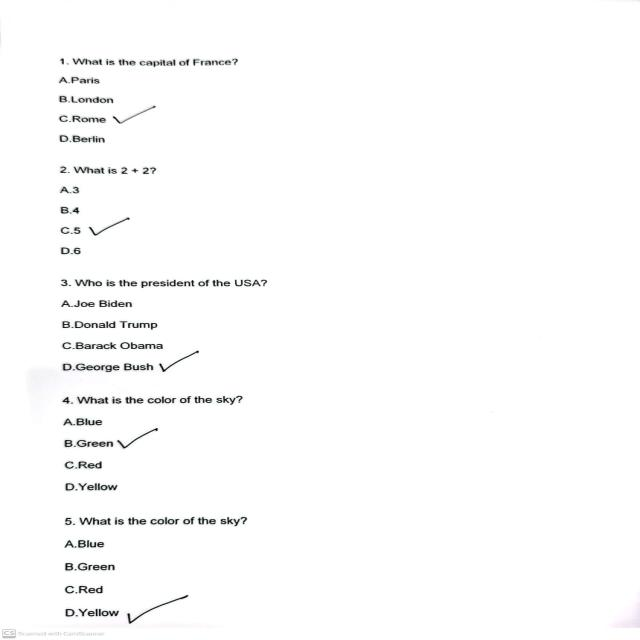Student_Ticked: (123, 592, 194, 625), (110, 423, 164, 452), (150, 348, 206, 374), (111, 105, 171, 124), (88, 215, 134, 237)
